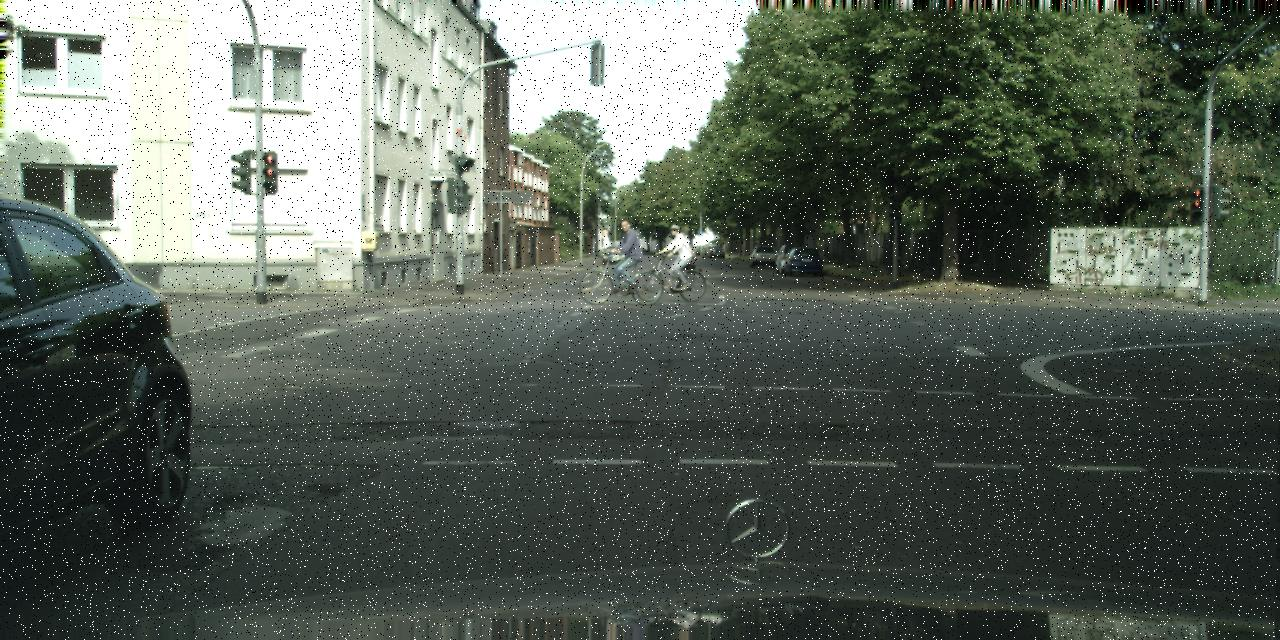ped: (610, 220, 638, 291), (661, 224, 688, 290), (815, 236, 825, 262)
